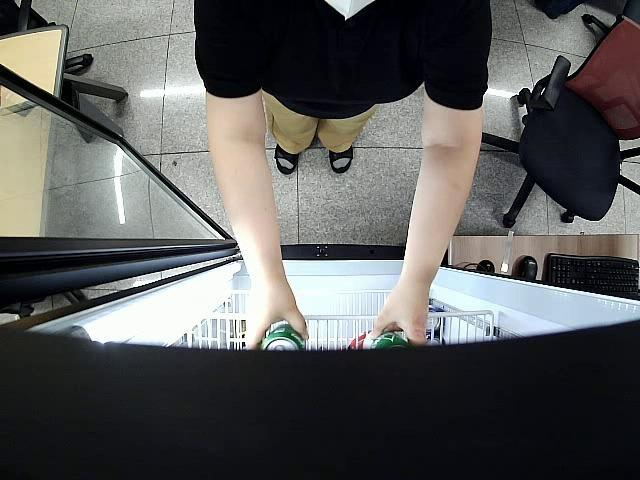12_chilsungCider: (262, 324, 306, 350), (364, 328, 411, 350)
